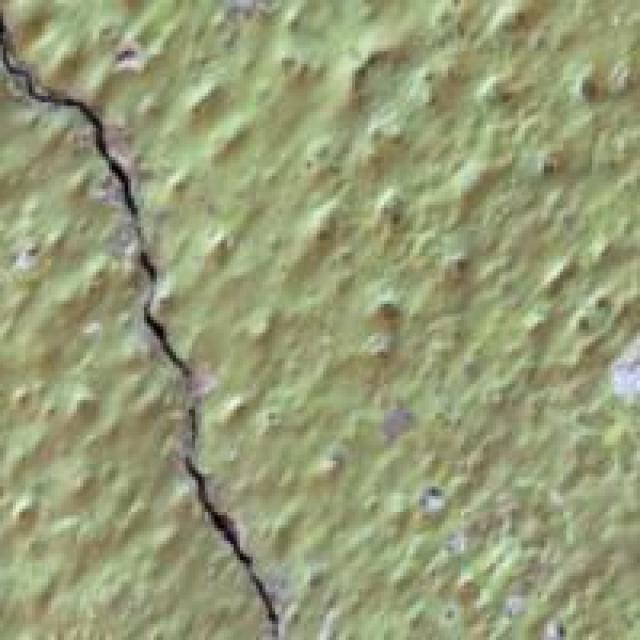crack: (0, 6, 291, 640)
